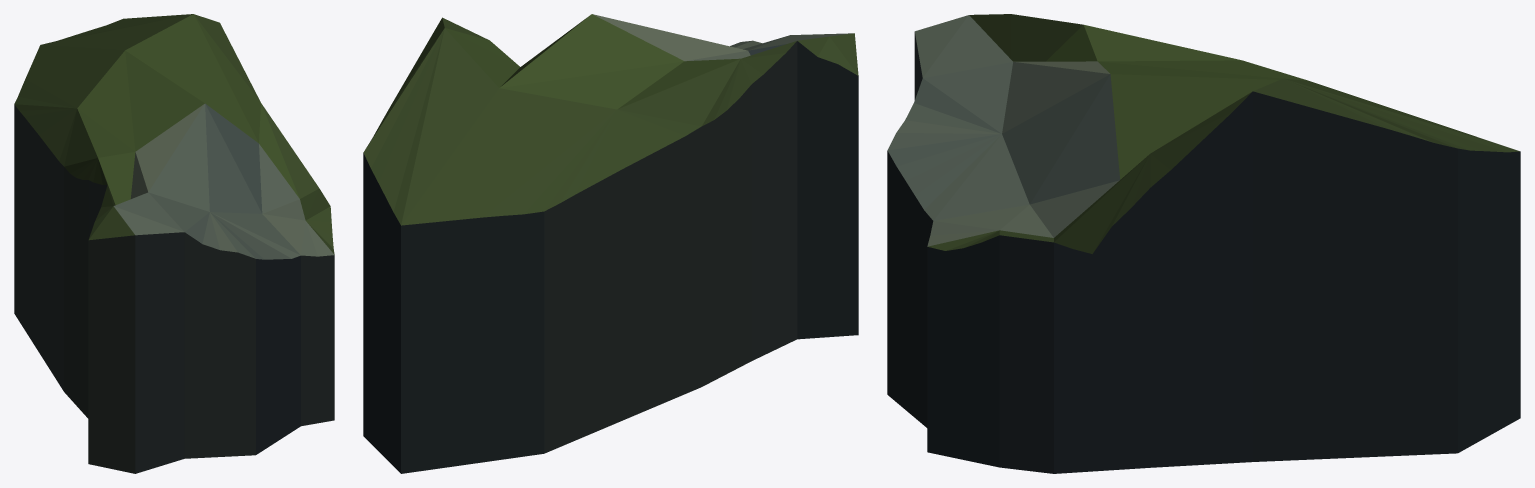
File: cliff_sections_shadow_buttress.glb
3 renders of one model, left to right at view 1: azimuth 30°, elevation 25°; view 2: azimuth 150°, elevation 25°; view 3: azimuth 270°, elevation 25°, orthographic. The views are drawn at different scales.
Parts seen in each view (by area): view 1: Front columns study; view 2: Front columns study; view 3: Front columns study.
Boxes of the visible parts, x1=… form: Front columns study: x1=14, y1=14, x2=334, y2=473; Front columns study: x1=363, y1=14, x2=858, y2=473; Front columns study: x1=887, y1=14, x2=1520, y2=473.
Size of the model in its own units: 63.16 by 68.59 by 105.
